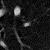node: (12, 5, 22, 17), (22, 22, 32, 28)
